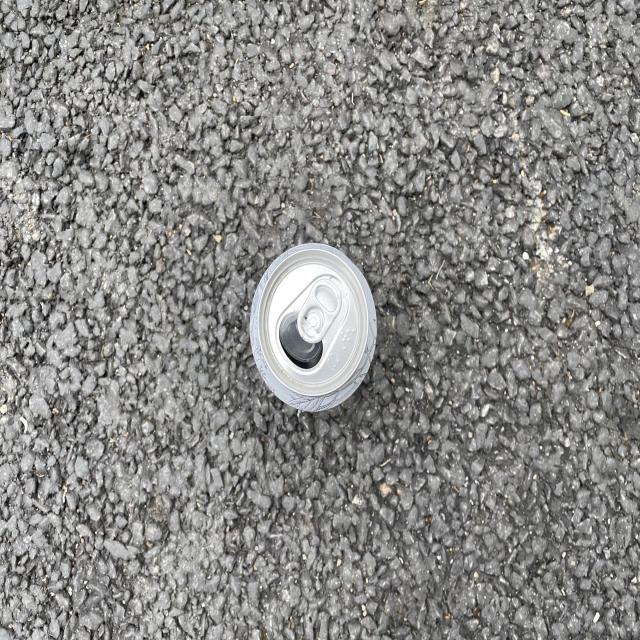can: (250, 243, 377, 411)
